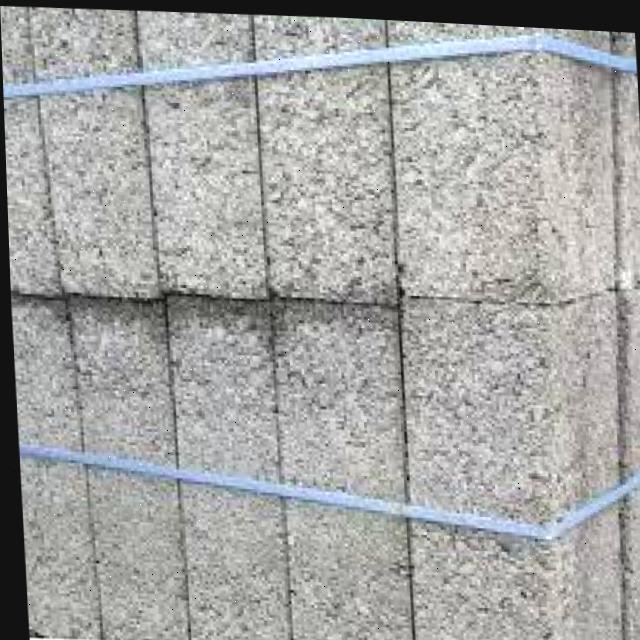bricks: (0, 6, 640, 640), (31, 629, 40, 635)
